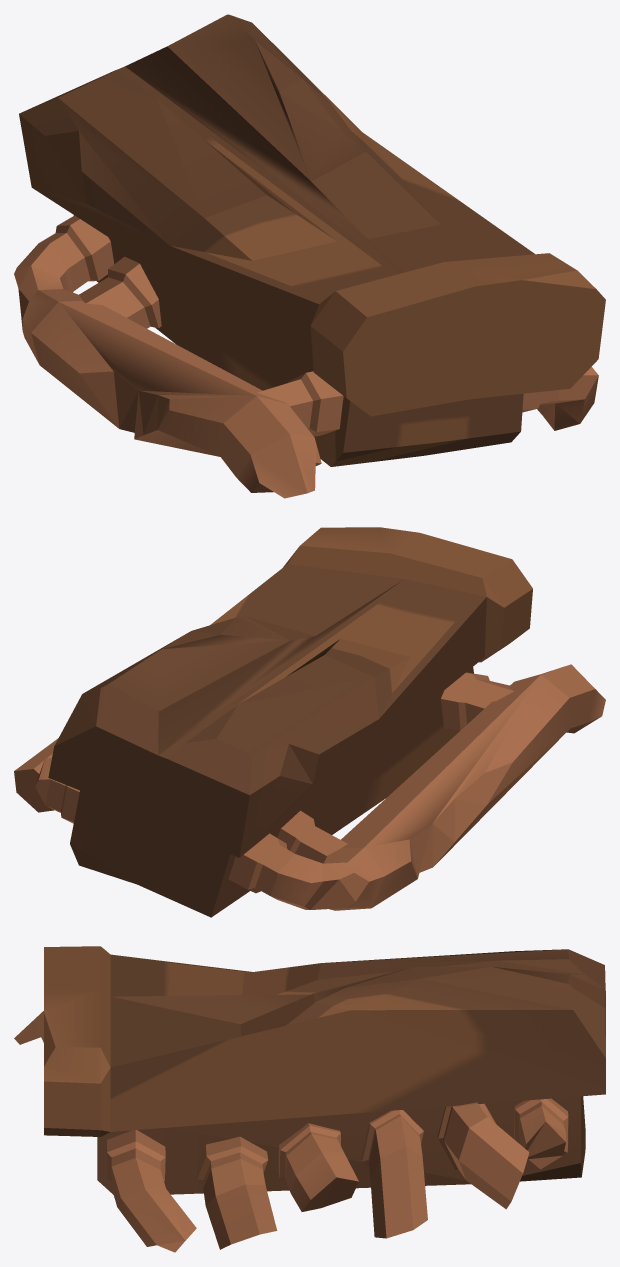
File: SM_Prop_EngineRusted_01.fbx
The picture shows the model from 3 angles, top to bottom: view 1: azimuth 30°, elevation 25°; view 2: azimuth 150°, elevation 25°; view 3: azimuth 270°, elevation 25°; orthographic projection. The views are drawn at different scales.
Visible parts, largest first — view 1: SM_Prop_EngineRusted_01; view 2: SM_Prop_EngineRusted_01; view 3: SM_Prop_EngineRusted_01.
Boxes of the visible parts, bbox=[...] form: SM_Prop_EngineRusted_01: bbox=[14, 14, 605, 498]; SM_Prop_EngineRusted_01: bbox=[14, 527, 605, 917]; SM_Prop_EngineRusted_01: bbox=[14, 946, 605, 1252].
Bounding box in the file's own units: 53.59 × 34.68 × 76.9.
